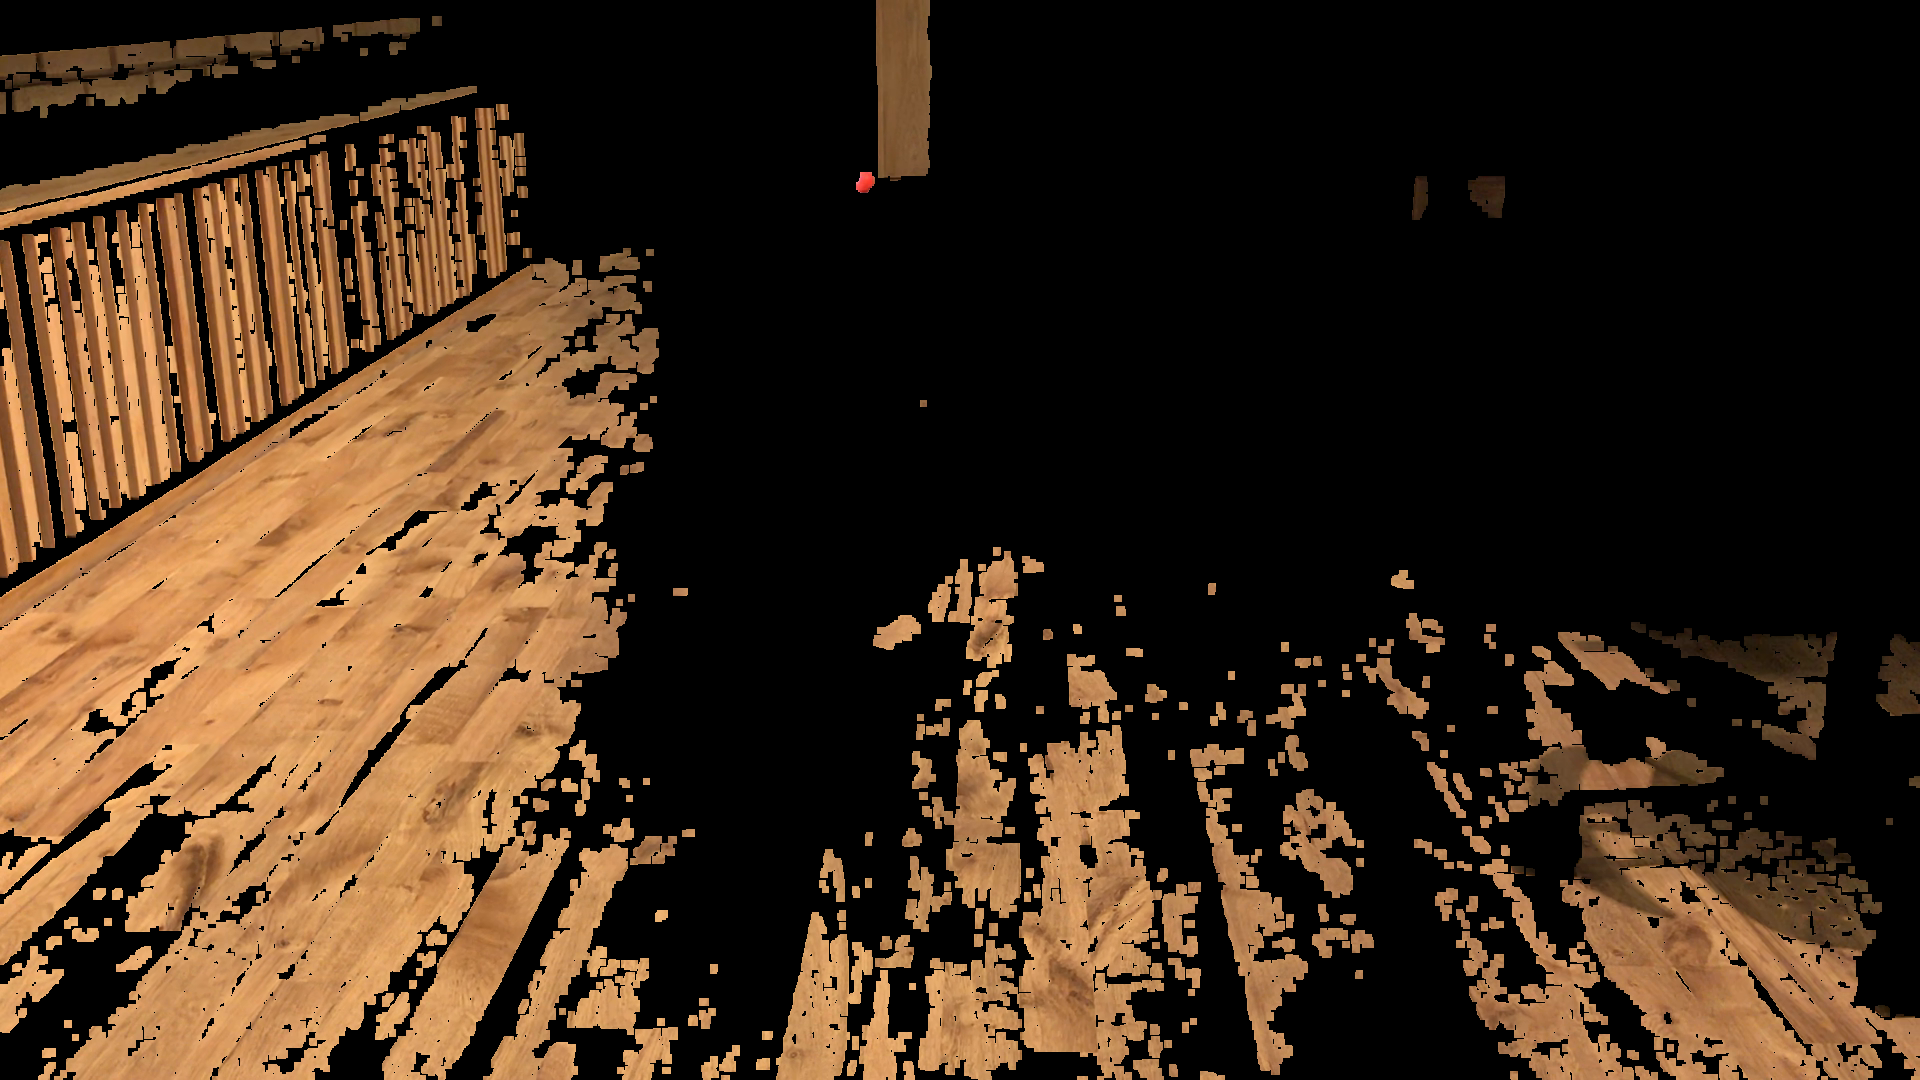Ball: (853, 169, 876, 190)
